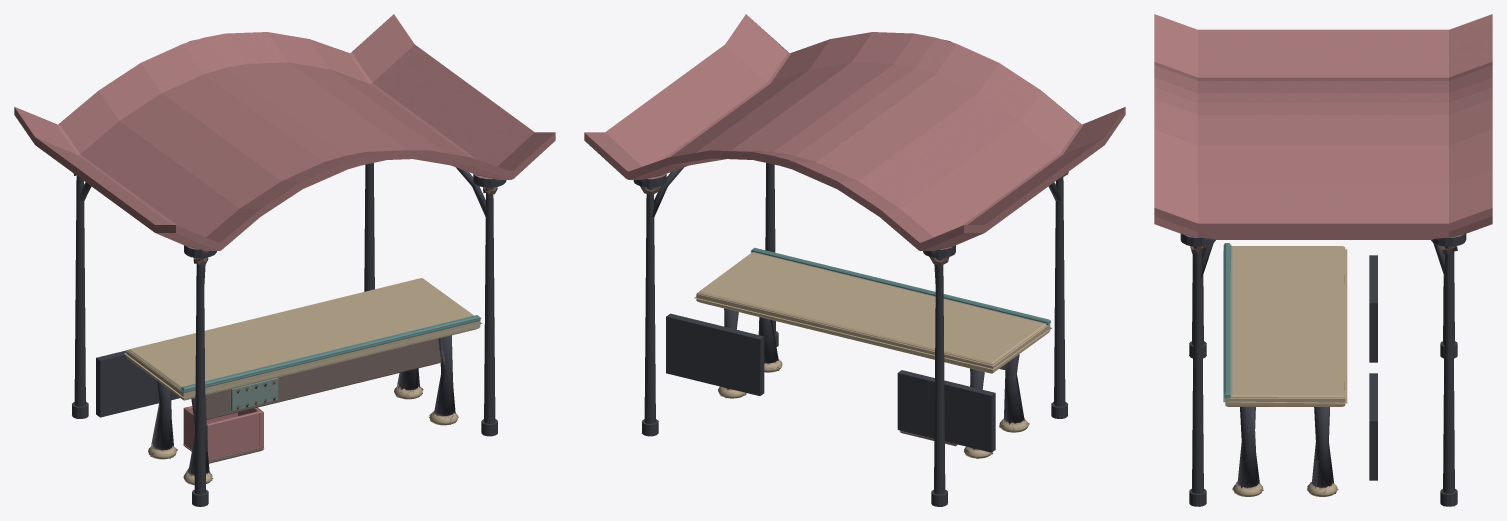
File: env_market_stall_a.glb
The picture shows the model from 3 angles, left to right: view 1: azimuth 30°, elevation 25°; view 2: azimuth 150°, elevation 25°; view 3: azimuth 270°, elevation 25°; orthographic projection. The views are drawn at different scales.
Parts seen in each view (by area): view 1: lod0__env_market_stall_a, lod1__env_market_stall_a, lod2__env_market_stall_a; view 2: lod0__env_market_stall_a, lod1__env_market_stall_a, lod2__env_market_stall_a; view 3: lod0__env_market_stall_a, lod1__env_market_stall_a, lod2__env_market_stall_a.
Boxes of the visible parts, x1,y1,x2,y2 form: lod0__env_market_stall_a: [14, 14, 555, 506]; lod1__env_market_stall_a: [14, 45, 510, 483]; lod2__env_market_stall_a: [27, 23, 555, 503]; lod0__env_market_stall_a: [584, 14, 1125, 506]; lod1__env_market_stall_a: [605, 45, 1125, 494]; lod2__env_market_stall_a: [584, 23, 1112, 506]; lod0__env_market_stall_a: [1154, 14, 1492, 506]; lod1__env_market_stall_a: [1154, 29, 1492, 496]; lod2__env_market_stall_a: [1180, 234, 1463, 506].
Size of the model in its own units: 4.2 by 3.46 by 3.1.
1 material, 1 textured.
